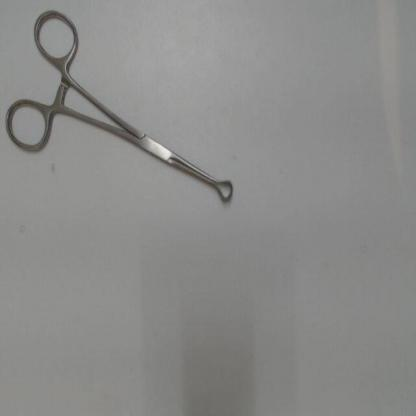Babcock Tissue Forceps: (2, 5, 238, 206)
